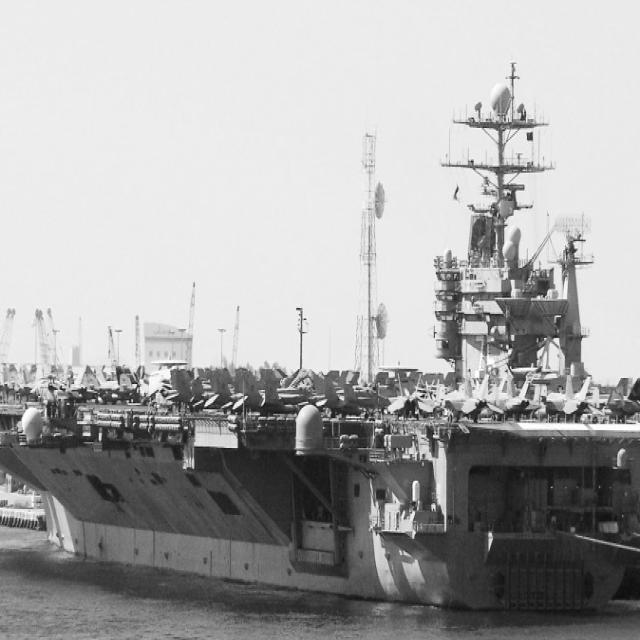Portanaves: (1, 55, 640, 629)
